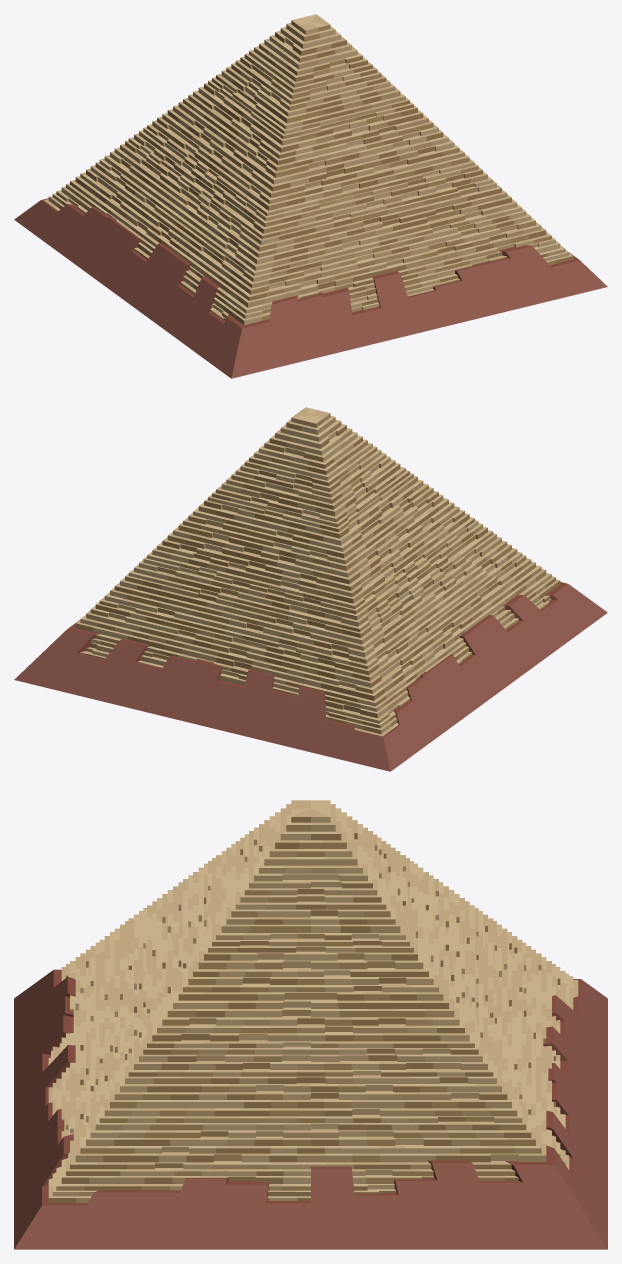
Rendered from piramide-miquerinos.glb.
3 views of the same model, one above another, from view 1: azimuth 30°, elevation 25°; view 2: azimuth 150°, elevation 25°; view 3: azimuth 270°, elevation 25° (orthographic). The views are drawn at different scales.
Visible parts, largest first — view 1: Degraus, Granito; view 2: Degraus, Granito; view 3: Degraus, Granito.
Boxes of the visible parts, <box> form: Degraus: <box>44,14,573,325</box>; Granito: <box>14,198,607,378</box>; Degraus: <box>75,407,560,736</box>; Granito: <box>14,582,607,771</box>; Degraus: <box>48,800,578,1202</box>; Granito: <box>14,969,607,1249</box>.
Bounding box in the file's own units: 108 × 63 × 108.
